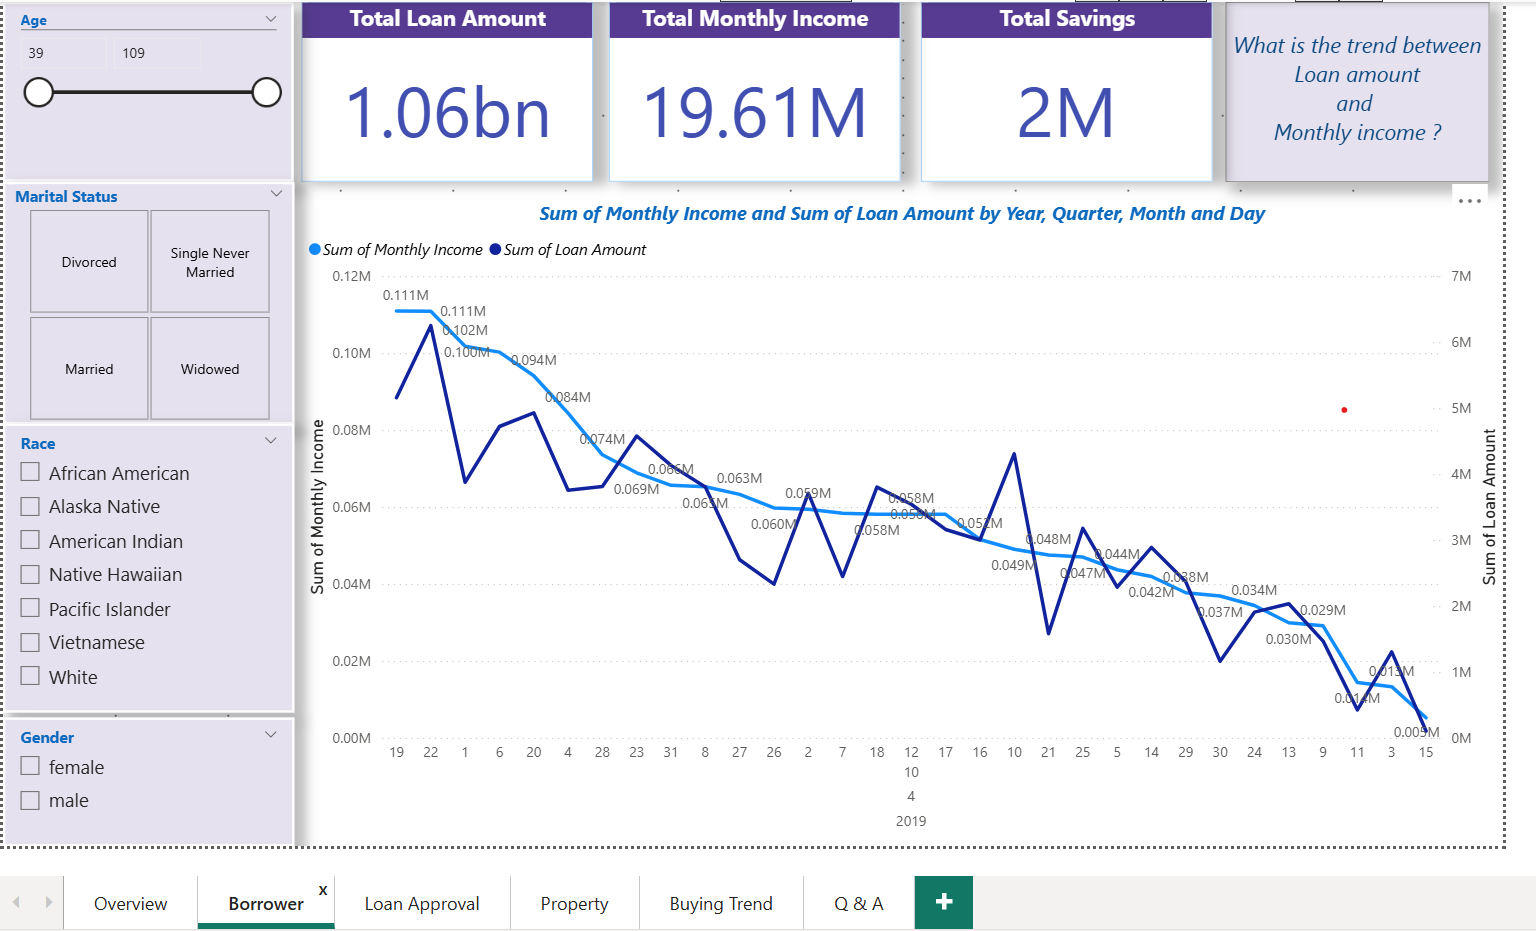

The dashboard page shown, as its layout file describes it:
{"tool":"powerbi","page":{"name":"Borrower","canvas":[1280,720],"ordinal":1},"visuals":[{"type":"lineChart","fields":{"Y":["Sum(Financials.Monthly Income)"],"Y2":["Sum(Financials.Loan Amount)"],"Category":["Loan.Loan Date Hierarchy.Year","Loan.Loan Date Hierarchy.Quarter","Loan.Loan Date Hierarchy.Month","Loan.Loan Date Hierarchy.Day"]},"box":[255,168.3,1025,551.7],"z":0},{"type":"card","title":"Total Loan Amount","fields":{"Values":["Measure Table.Total Loan Amount"]},"box":[255,0,248.3,153.3],"z":1000},{"type":"textbox","box":[1043.3,0,225,153.3],"z":2000},{"type":"card","title":"Total Savings","fields":{"Values":["Sum(Financials.Savings)"]},"box":[783.3,0,248.3,153.3],"z":3000},{"type":"card","title":"Total Monthly Income","fields":{"Values":["Sum(Financials.Monthly Income)"]},"box":[516.7,0,248.3,153.3],"z":4000},{"type":"slicer","fields":{"Values":["Borrower.Age"]},"box":[0,0,248,153],"z":5000},{"type":"slicer","fields":{"Values":["Borrower.Marital Status"]},"box":[0,153.3,248.3,206.7],"z":6000},{"type":"slicer","fields":{"Values":["Borrower.Race"]},"box":[0,360,248.3,246.7],"z":7000},{"type":"slicer","fields":{"Values":["Borrower.Sex"]},"box":[0,610,248.3,110],"z":8000}]}

Visuals, with their boxes on the page's 1280x720 design canvas (x1, y1, x2, y2). These are canvas units, not pixel positions in the 1536x931 screenshot, which may show the page scaled, cropped or inside an application window:
lineChart - Sum(Financials.Monthly Income) x Sum(Financials.Loan Amount): [255, 168, 1280, 720]
"Total Loan Amount" card: [255, 0, 503, 153]
textbox: [1043, 0, 1268, 153]
"Total Savings" card: [783, 0, 1032, 153]
"Total Monthly Income" card: [517, 0, 765, 153]
slicer - Borrower.Age: [0, 0, 248, 153]
slicer - Borrower.Marital Status: [0, 153, 248, 360]
slicer - Borrower.Race: [0, 360, 248, 607]
slicer - Borrower.Sex: [0, 610, 248, 720]
